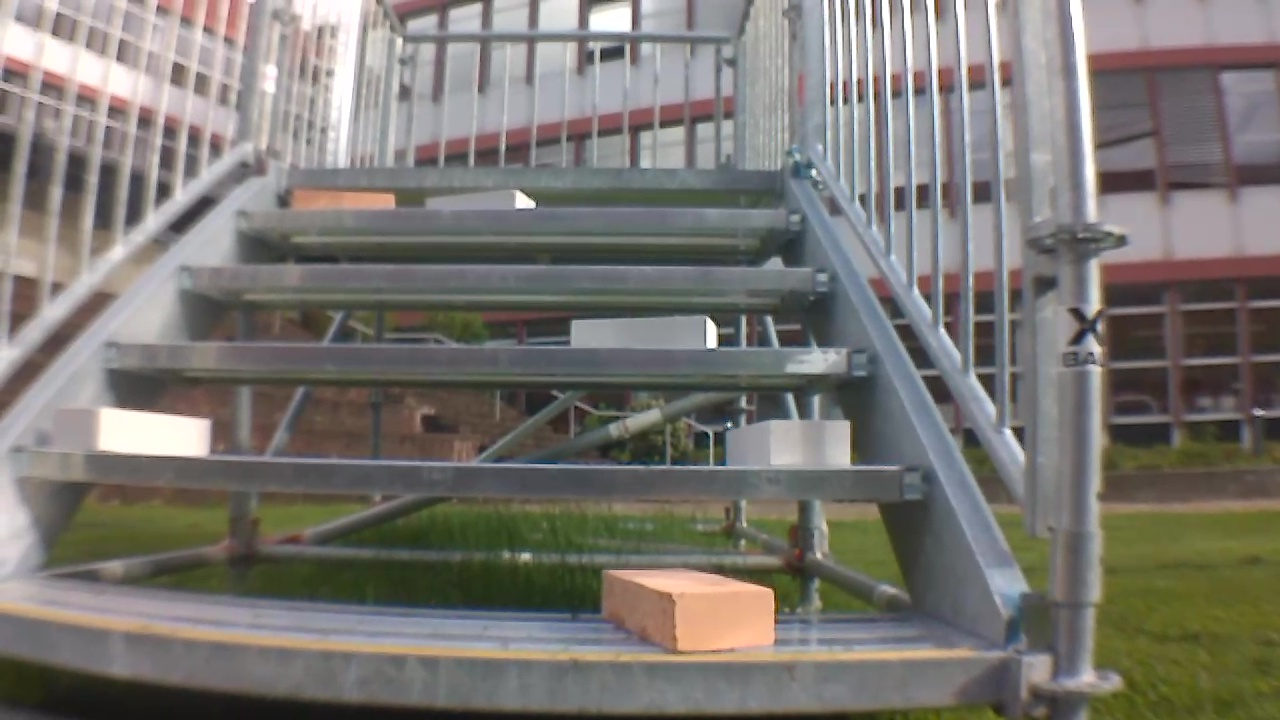brick: (601, 568, 774, 650), (52, 407, 208, 455), (725, 421, 850, 466), (571, 316, 716, 349), (425, 191, 535, 209), (292, 189, 393, 207)
edge: (2, 613, 1012, 716), (10, 448, 927, 497), (108, 342, 871, 373), (181, 265, 832, 288), (239, 209, 804, 229), (277, 167, 783, 188)
stairs: (2, 4, 1119, 718)
steps: (3, 159, 1028, 718)
